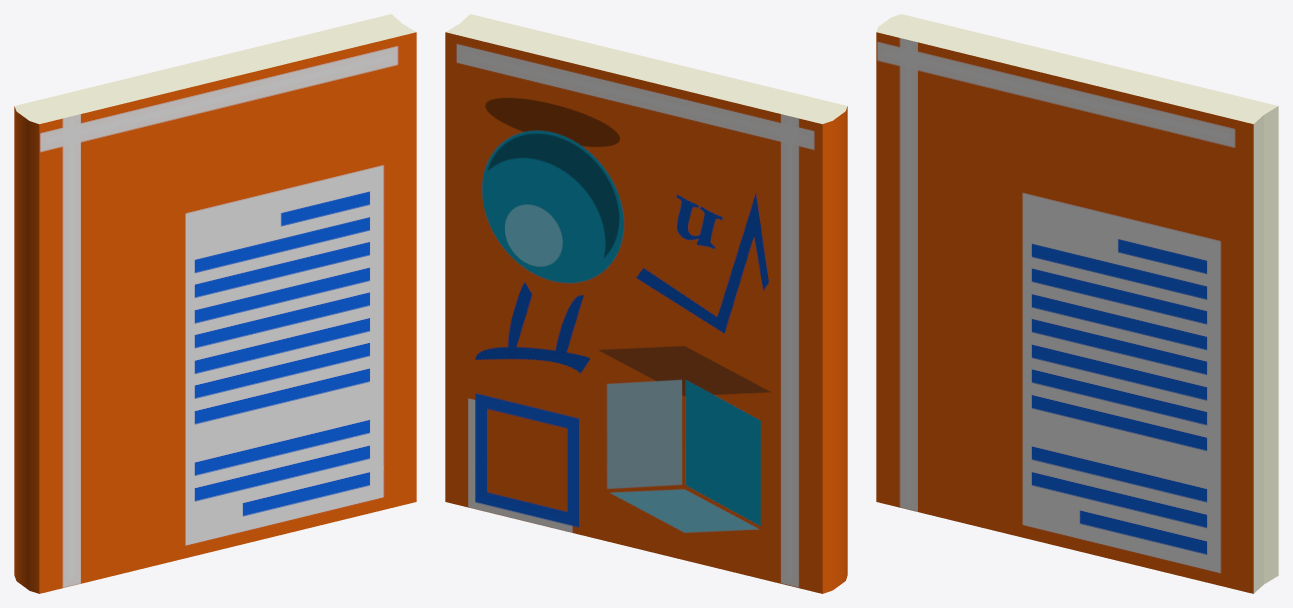
The model's file is Math_Book.fbx.
3 views of the same model, side by side, from view 1: azimuth 30°, elevation 25°; view 2: azimuth 150°, elevation 25°; view 3: azimuth 330°, elevation 25° (orthographic).
Visible parts, largest first — view 1: Math_Book; view 2: Math_Book; view 3: Math_Book.
Part boxes in pixels (x1=…): Math_Book: x1=14, y1=14, x2=416, y2=593; Math_Book: x1=445, y1=14, x2=847, y2=593; Math_Book: x1=876, y1=14, x2=1278, y2=593.
Bounding box in the file's own units: 0.2548 × 0.3 × 0.0288.
